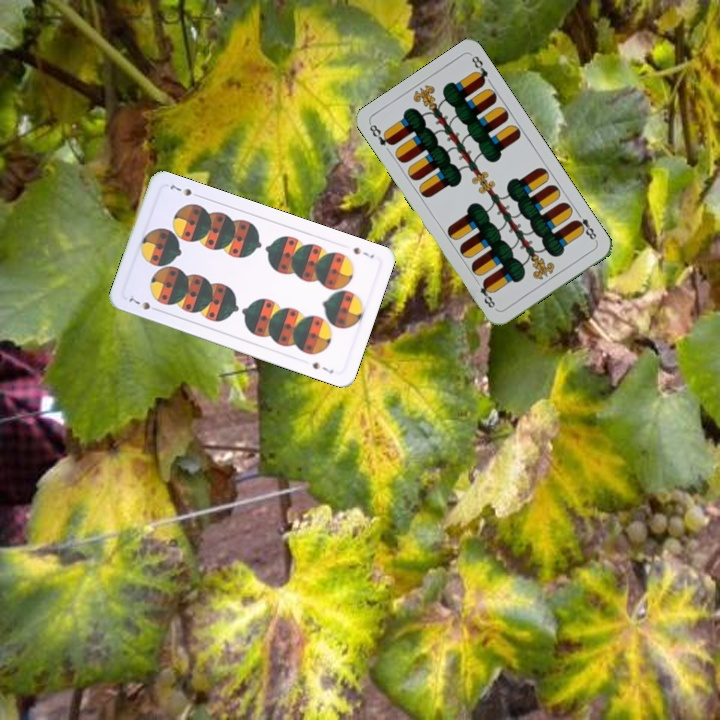E8: (570, 208, 600, 244), (365, 120, 396, 148)
S7: (125, 294, 162, 314), (349, 243, 377, 261)
